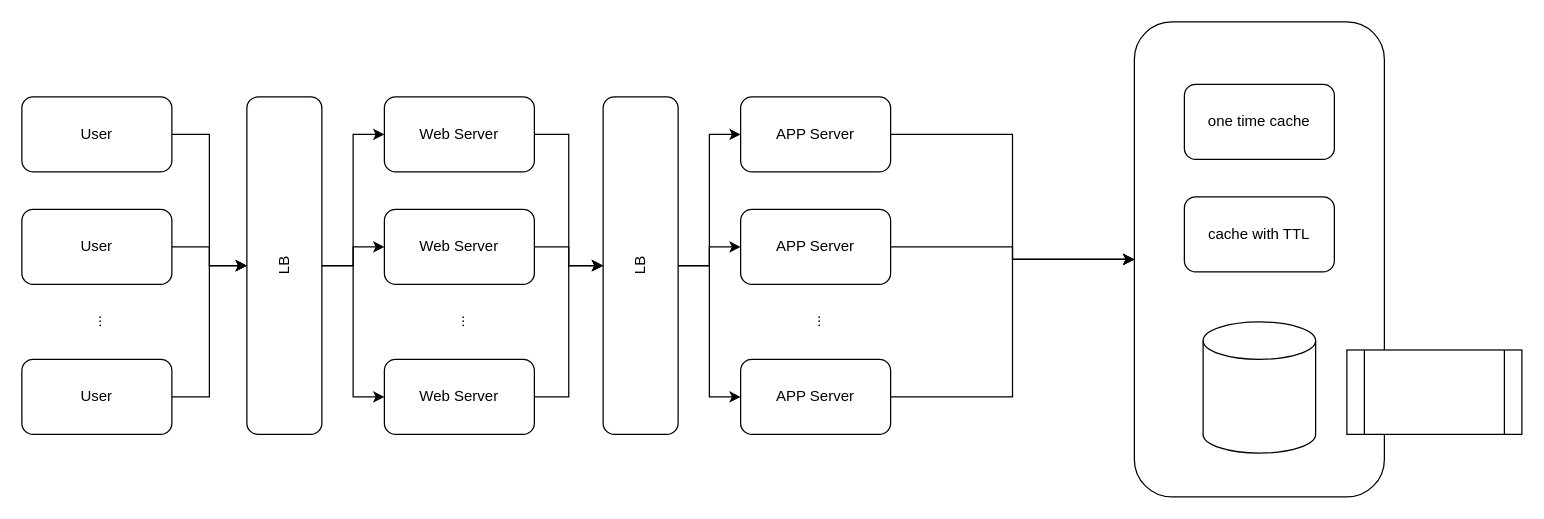
Some shapes in this 1544 by 519 pixel diagram are drawn without their labels. Each missing label, with the box of its shape:
clean up process: (1346, 349, 1522, 434)
Paste DB: (1202, 321, 1316, 453)
